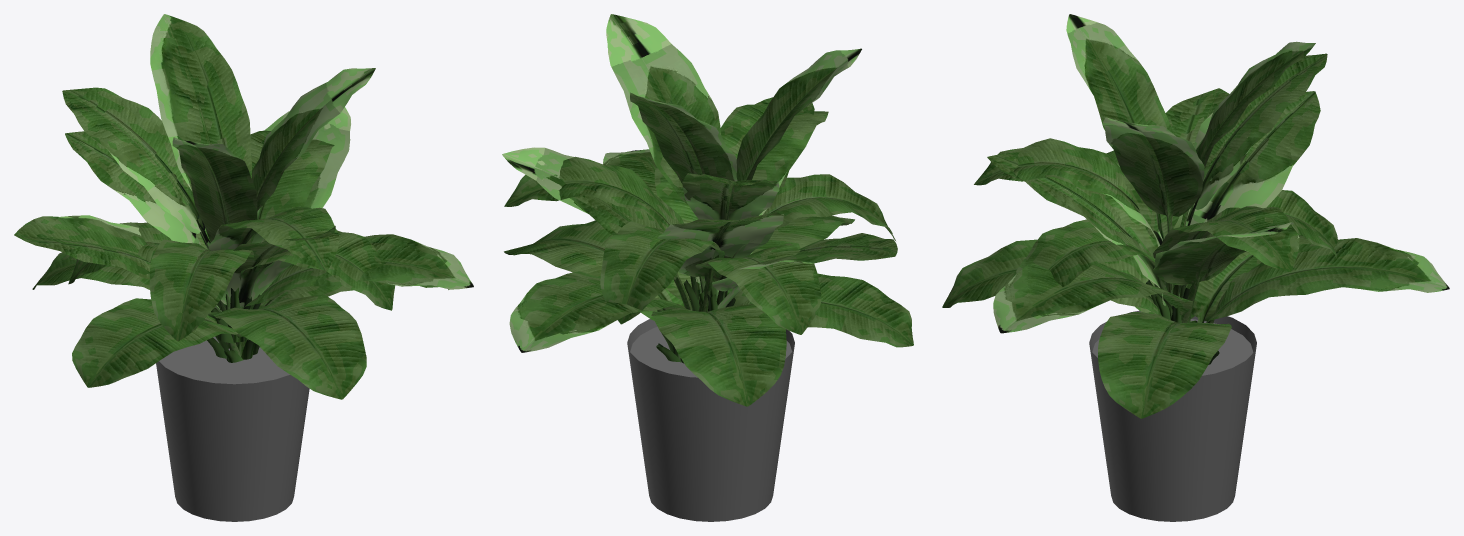
Rendered from planta-en-maceta-3.glb.
3 views of the same model, side by side, from view 1: azimuth 30°, elevation 25°; view 2: azimuth 150°, elevation 25°; view 3: azimuth 270°, elevation 25° (orthographic). The views are drawn at different scales.
Parts seen in each view (by area): view 1: SketchUp.001, SketchUp; view 2: SketchUp.001, SketchUp; view 3: SketchUp.001, SketchUp.
Boxes of the visible parts, x1,y1,x2,y2 form: SketchUp.001: (14,14,473,399); SketchUp: (156,336,309,521); SketchUp.001: (502,14,913,406); SketchUp: (627,319,794,521); SketchUp.001: (942,14,1449,418); SketchUp: (1089,310,1256,521).
Bounding box in the file's own units: 0.8755 × 0.908 × 0.9249.
3 materials, 2 textured.
